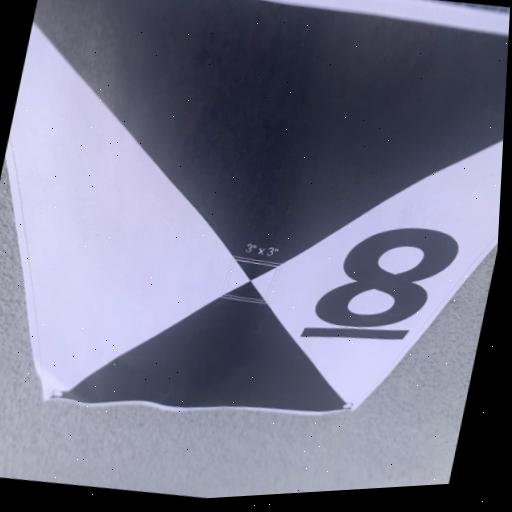target8: (43, 0, 510, 414)
